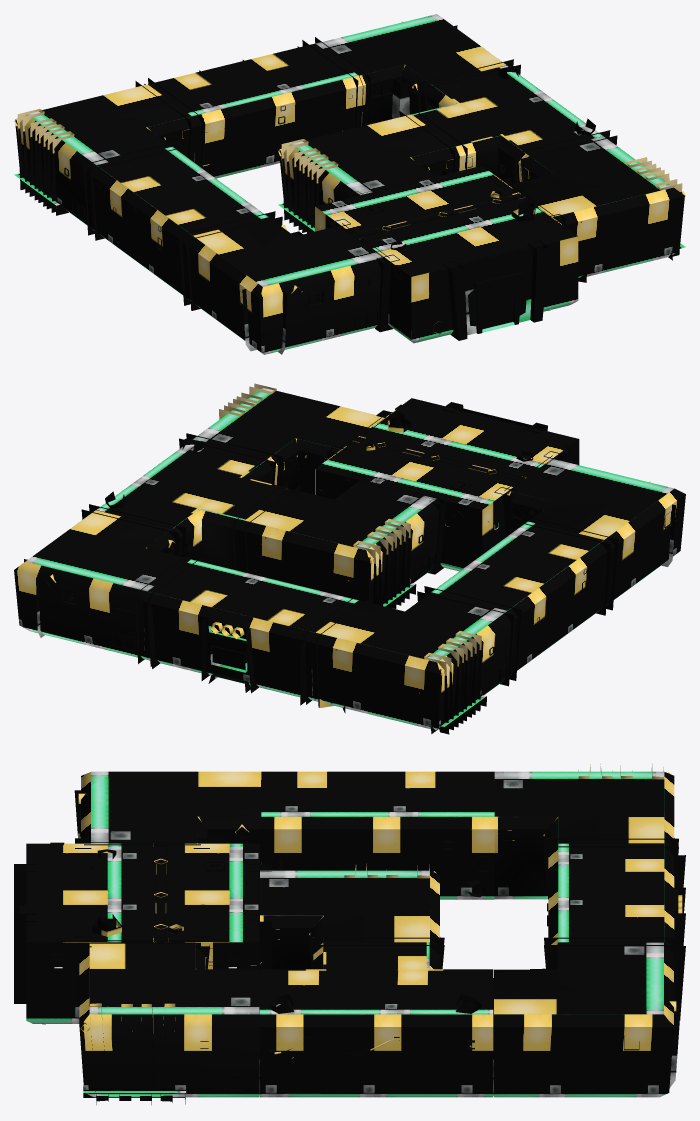
Rendered from Combined_Mesh_root_scene__20_a4a1e6c2__zombies2_diffuse_12_078cf75e_c1f257.obj.
3 views of the same model, one above another, from view 1: azimuth 30°, elevation 25°; view 2: azimuth 150°, elevation 25°; view 3: azimuth 270°, elevation 25° (orthographic). The views are drawn at different scales.
Size of the model in its own units: 51.83 by 9.64 by 57.56.
Materials: 132 (132 with a texture image).
